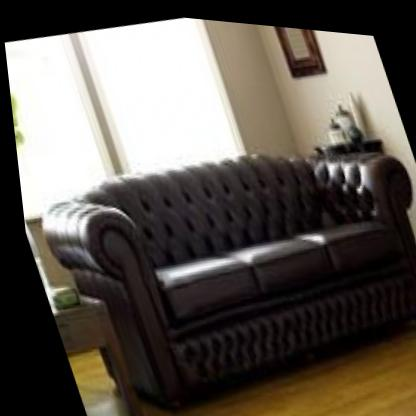Sofa: (16, 100, 416, 416)
